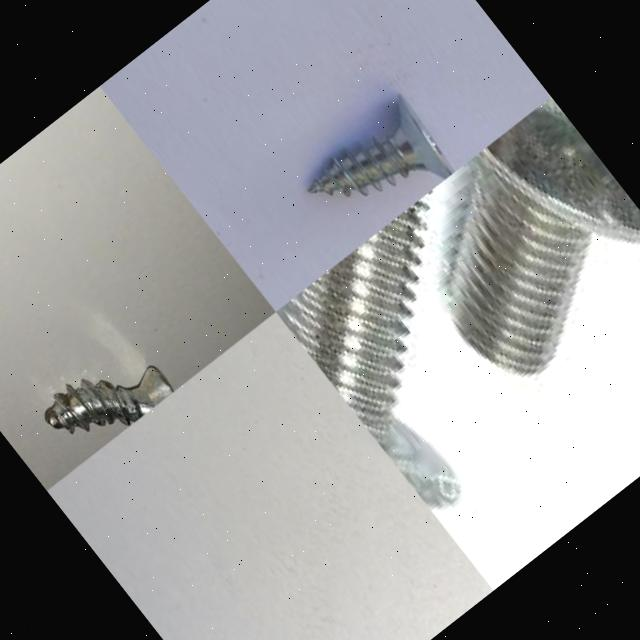Screw: (277, 195, 459, 508), (442, 97, 640, 378), (309, 95, 455, 197), (46, 367, 174, 434)
